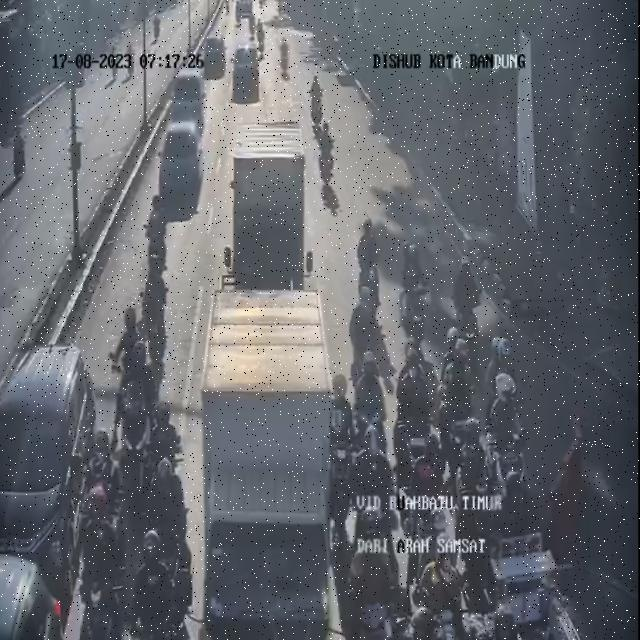cars: (0, 337, 102, 591), (488, 481, 560, 629), (160, 68, 210, 204), (0, 554, 60, 639), (231, 46, 265, 105), (199, 29, 231, 83)
motorcycle: (74, 481, 126, 640), (401, 469, 460, 594), (347, 499, 394, 640), (80, 420, 126, 562), (487, 366, 528, 511), (352, 421, 398, 550), (146, 467, 193, 592), (146, 398, 187, 513), (131, 526, 172, 640), (395, 228, 430, 354), (418, 545, 464, 639), (394, 350, 430, 470), (112, 304, 148, 421), (447, 329, 478, 464), (352, 353, 390, 463), (346, 290, 386, 394), (122, 344, 155, 469), (133, 241, 169, 352), (452, 243, 487, 350), (353, 218, 387, 322), (316, 122, 346, 220), (145, 184, 170, 282), (305, 70, 328, 135), (419, 610, 462, 640), (252, 13, 267, 60), (278, 30, 290, 84)
truck: (198, 329, 335, 640), (228, 128, 310, 309)
